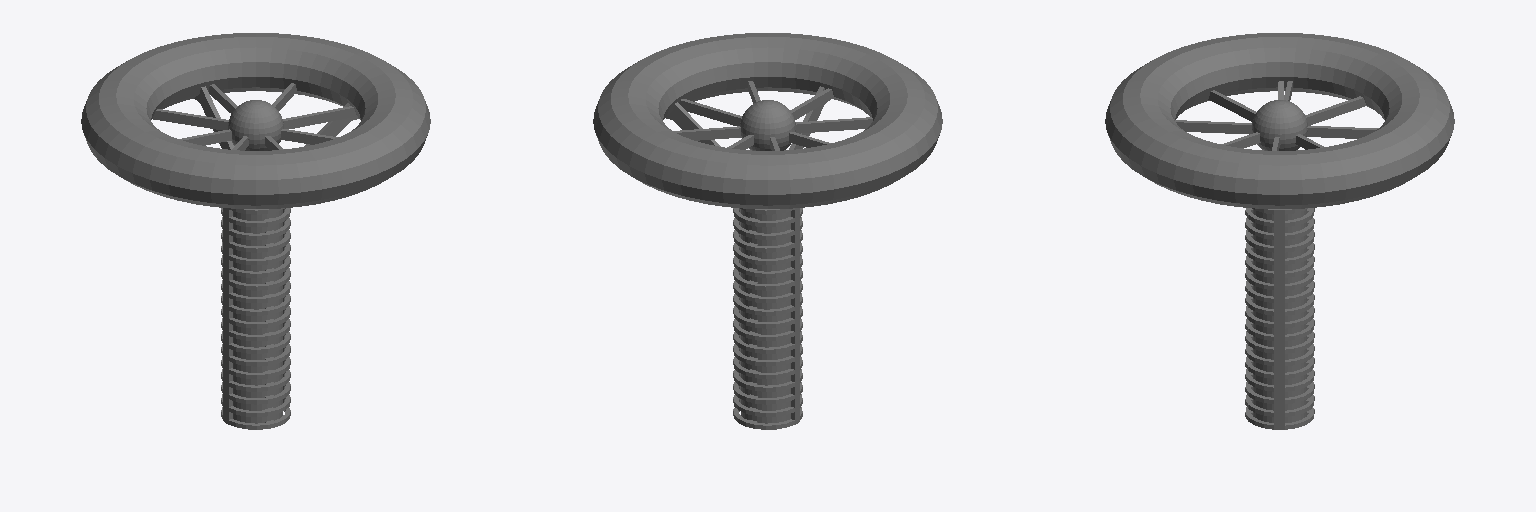
The model's file is teslaCoil.obj.
The picture shows the model from 3 angles: view 1: azimuth 30°, elevation 25°; view 2: azimuth 150°, elevation 25°; view 3: azimuth 270°, elevation 25°; orthographic projection.
Visible parts, largest first — view 1: Circle; view 2: Circle; view 3: Circle.
Boxes of the visible parts, x1=… form: Circle: x1=81, y1=33, x2=430, y2=429; Circle: x1=593, y1=33, x2=942, y2=429; Circle: x1=1105, y1=33, x2=1454, y2=429.
Bounding box in the file's own units: 0.9826 × 0.993 × 0.9826.